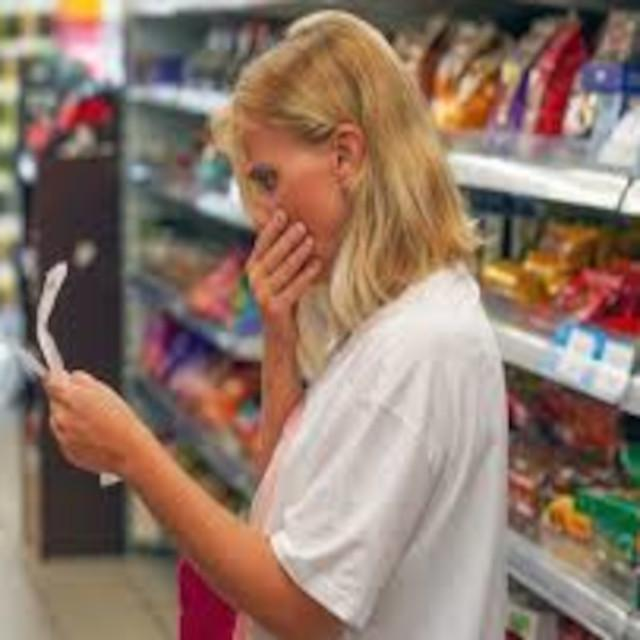kobieta: (38, 0, 500, 639)
